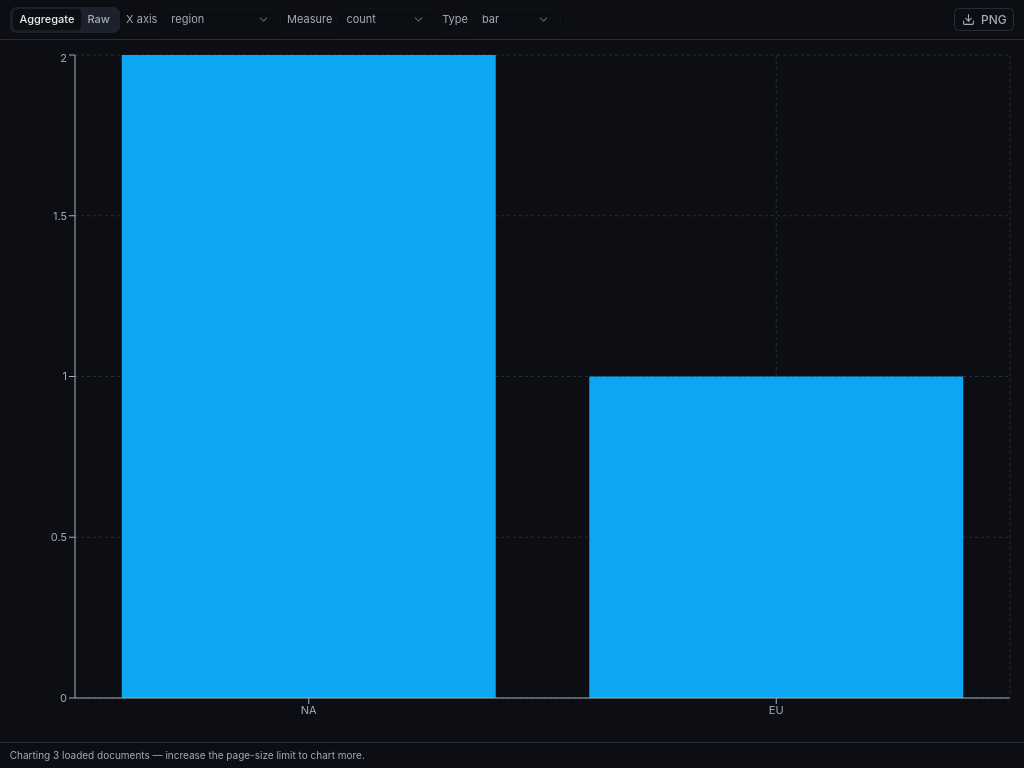
Test: ChartView › populates the X-axis picker with all fields
Click the dropdown named "X axis": (221, 20) [161, 8, 281, 31]
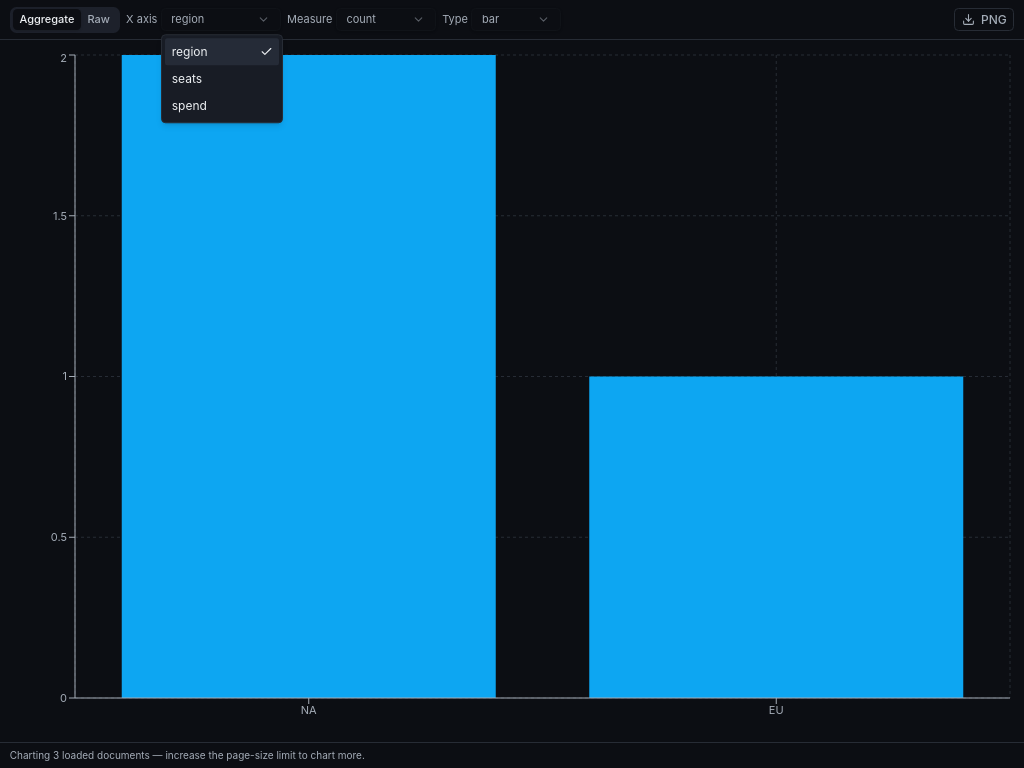
expect the option "region" is shown: met, box [165, 38, 279, 65]
expect the option "seats" is shown: met, box [172, 71, 202, 86]
expect the option "spend" is shown: met, box [172, 98, 207, 113]
